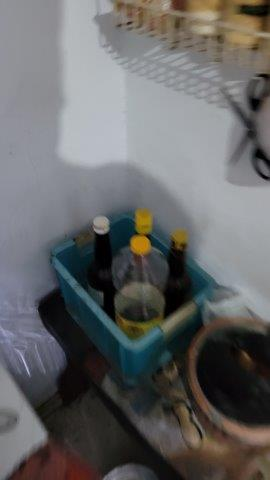botolkaca: (88, 207, 196, 313)
